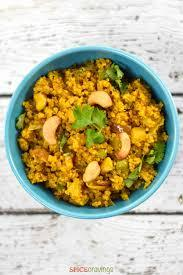poha: (11, 55, 179, 210)
